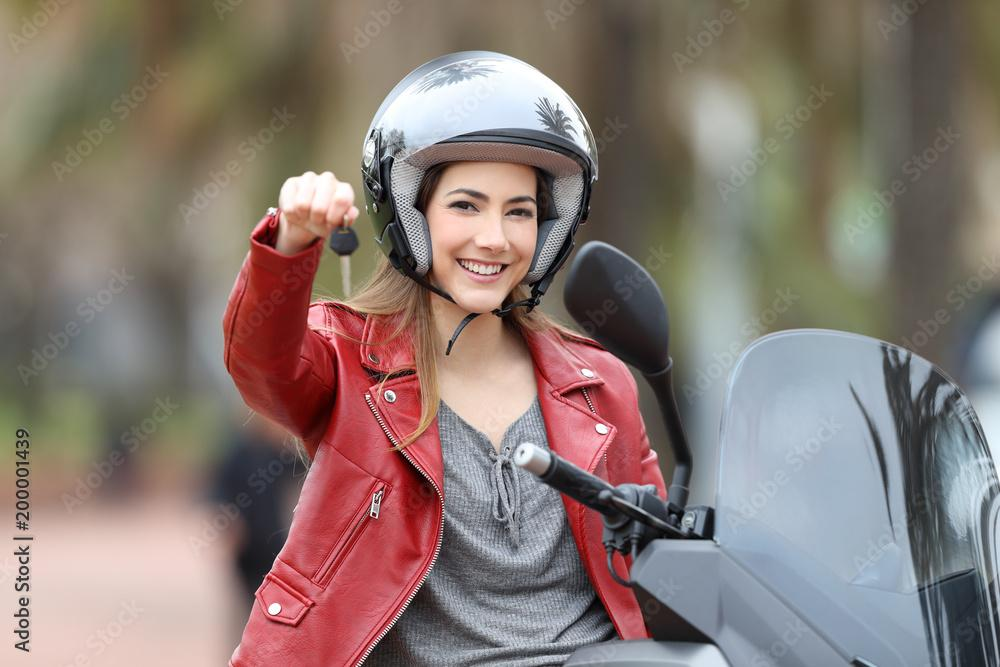helmet: (360, 48, 601, 358)
